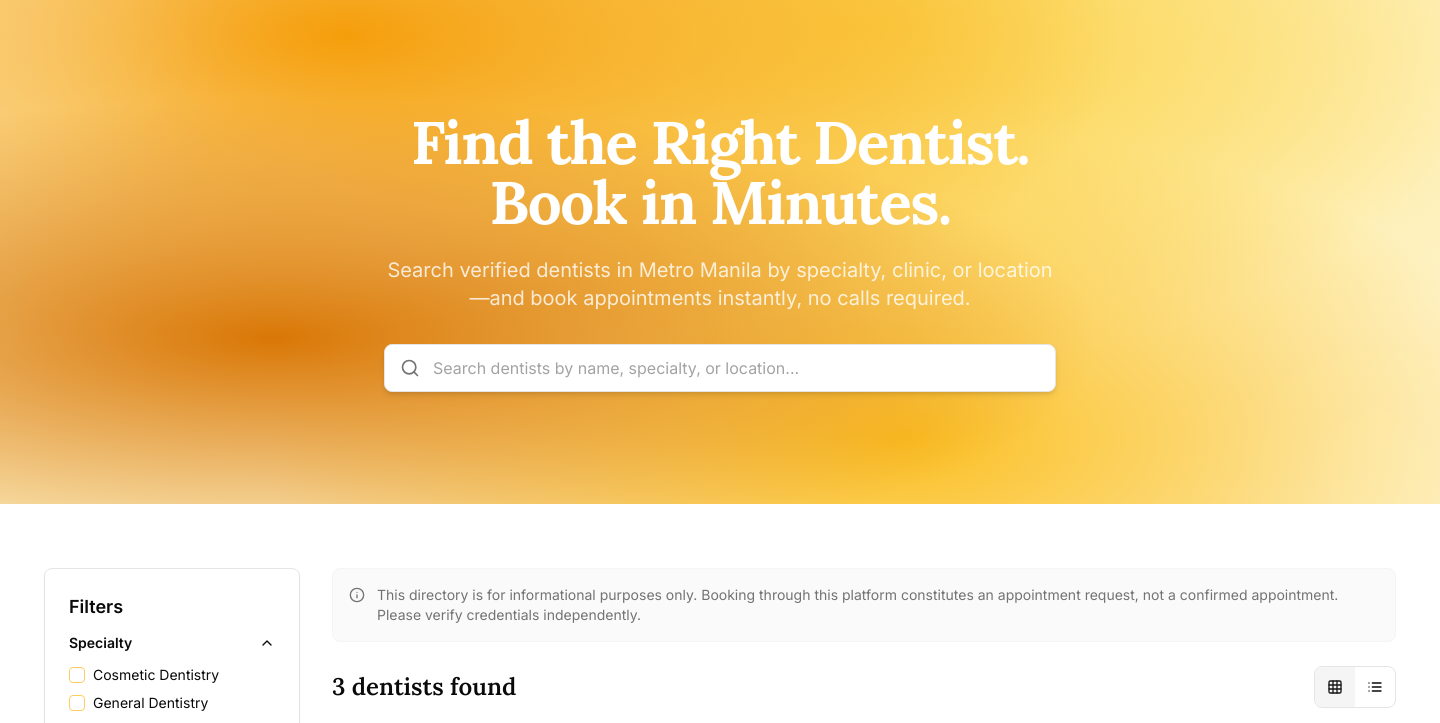
Find a Dentist Directory Page › Search and Filter Integration › combines search query with filters
Search for "Teeth Cleaning" (matches 2 dentists)
Type "Teeth Cleaning" into the field with placeholder "Search dentists by name, specialty, or location..." at (720, 368), box left=384, top=344, right=1056, bottom=392
(page scrolled)
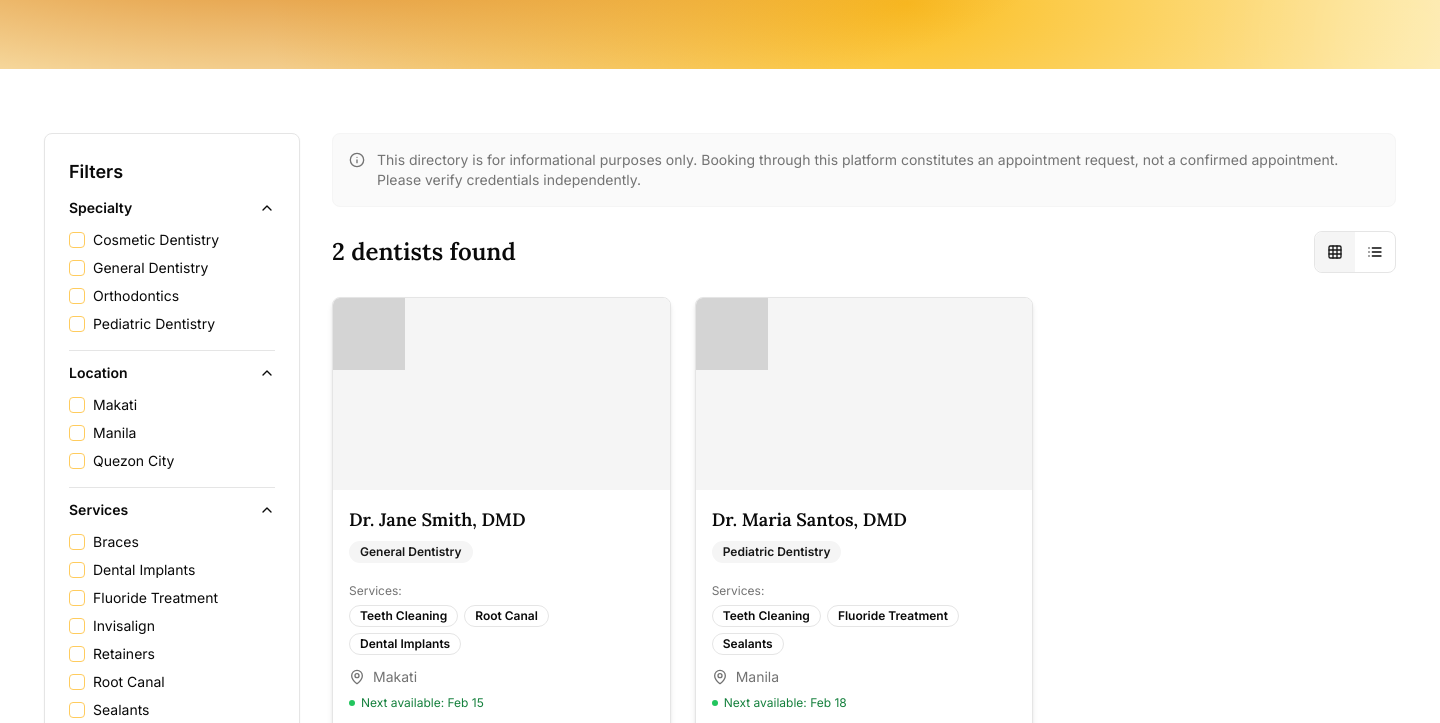
Now the heading "2 dentists found" is shown, box left=332, top=236, right=516, bottom=268
Add location filter for Makati (should narrow to 1)
Click the 5th checkbox named "Makati" at (77, 405), box left=69, top=397, right=85, bottom=413
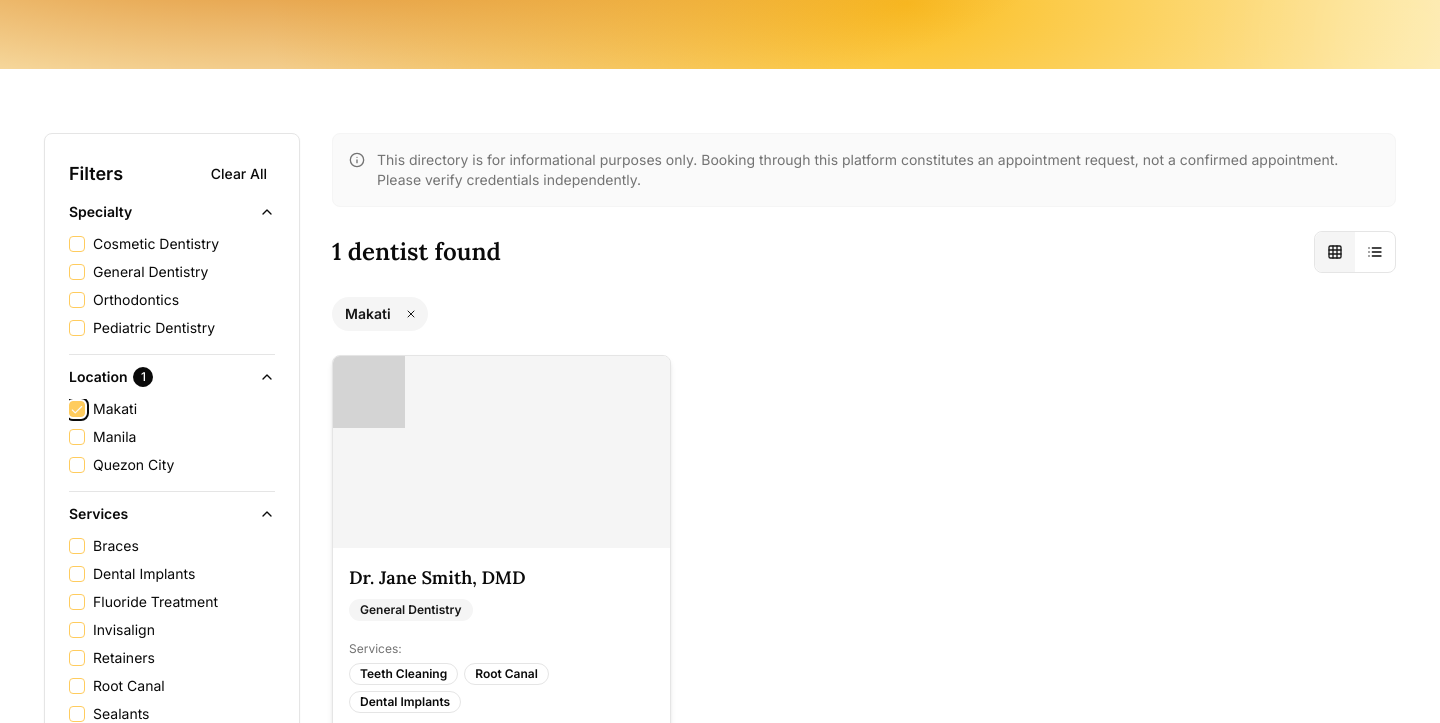
Expected: the heading "Dr. Jane Smith, DMD" is shown, left=349, top=566, right=526, bottom=589
Now the heading "1 dentist found" is shown, box left=332, top=236, right=501, bottom=268
